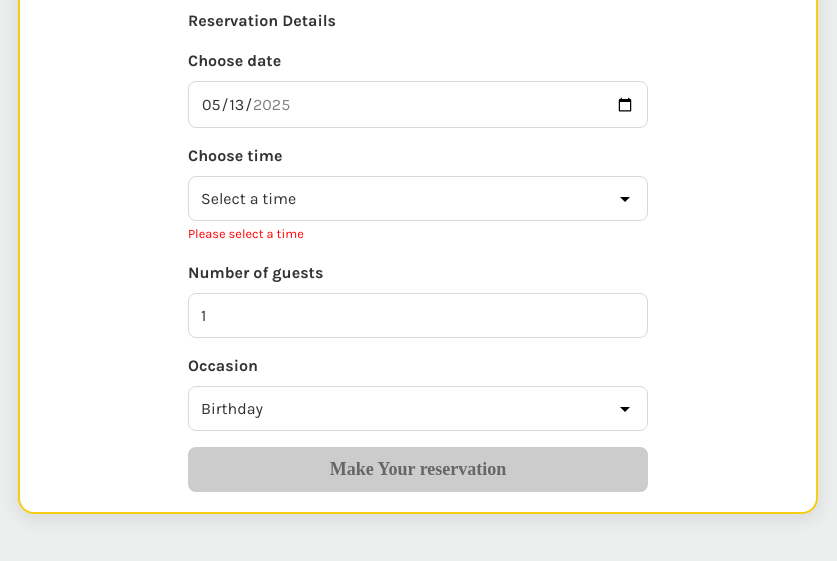
it: BookingForm › Form Validation › should show error when guests number is invalid
The image size is (837, 561).
In the number field labelled "Number of guests": {"x": 418, "y": 316} x1=188 y1=293 x2=648 y2=338, type "0"
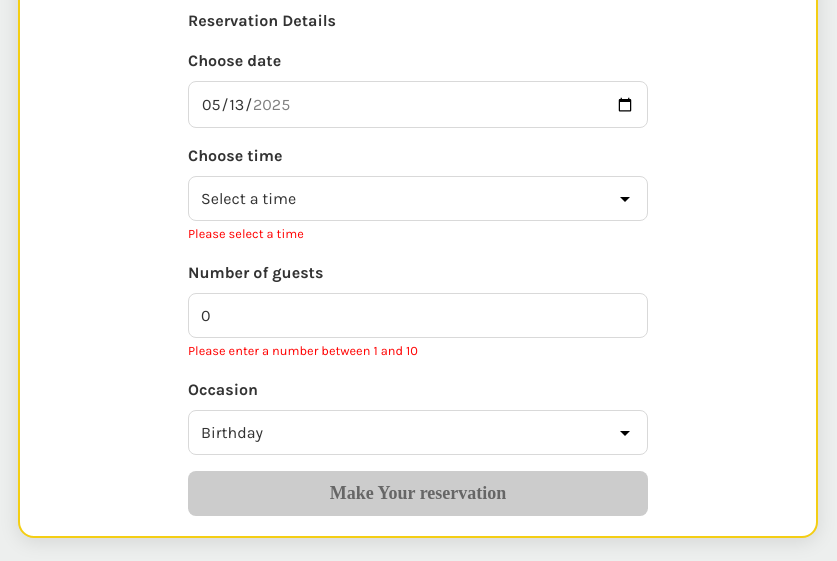
Now the text "Please enter a number between 1 and 10" is shown, box x1=188 y1=343 x2=418 y2=358
